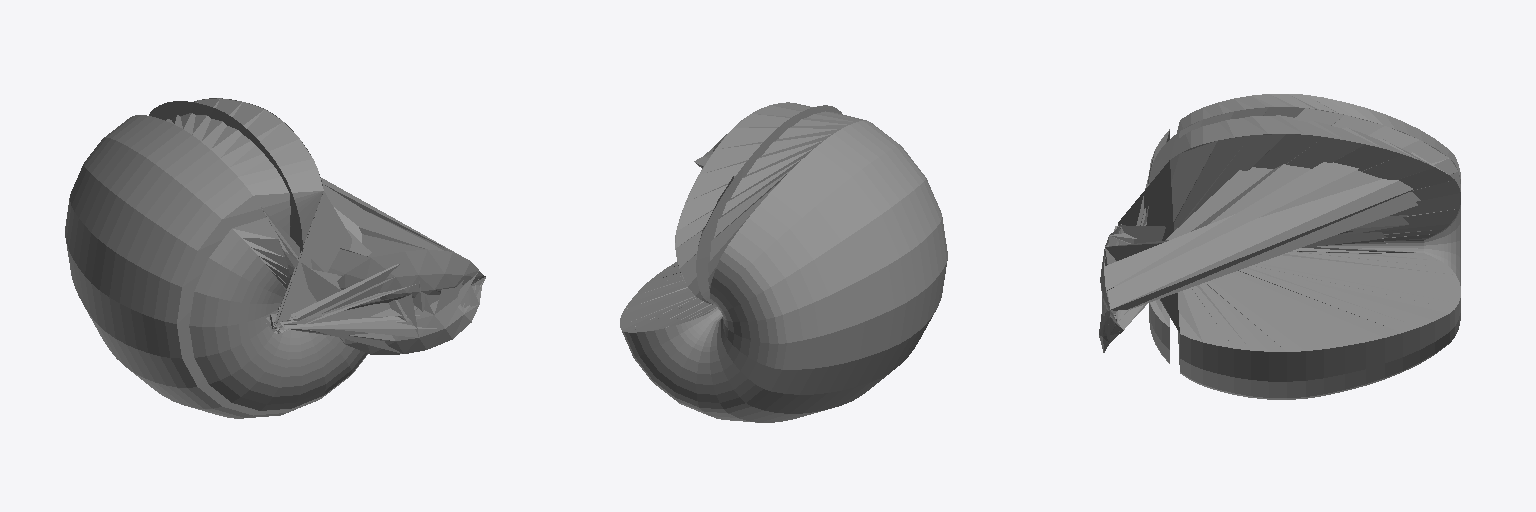
File: FOOD.obj
The picture shows the model from 3 angles: view 1: azimuth 30°, elevation 25°; view 2: azimuth 150°, elevation 25°; view 3: azimuth 270°, elevation 25°; orthographic projection.
Visible parts, largest first — view 1: Model_002_Apple_02, Model_002_Apple_03, Model_002_Apple_01; view 2: Model_002_Apple_02; view 3: Model_002_Apple_02, Model_002_Apple_03.
Boxes of the visible parts, <box> form: Model_002_Apple_02: <box>65,98,478,418</box>; Model_002_Apple_03: <box>337,250,485,354</box>; Model_002_Apple_01: <box>273,264,484,353</box>; Model_002_Apple_02: <box>620,102,947,422</box>; Model_002_Apple_02: <box>1099,94,1460,399</box>; Model_002_Apple_03: <box>1099,226,1123,352</box>.
Bounding box in the file's own units: 9.39 × 8.23 × 9.65.